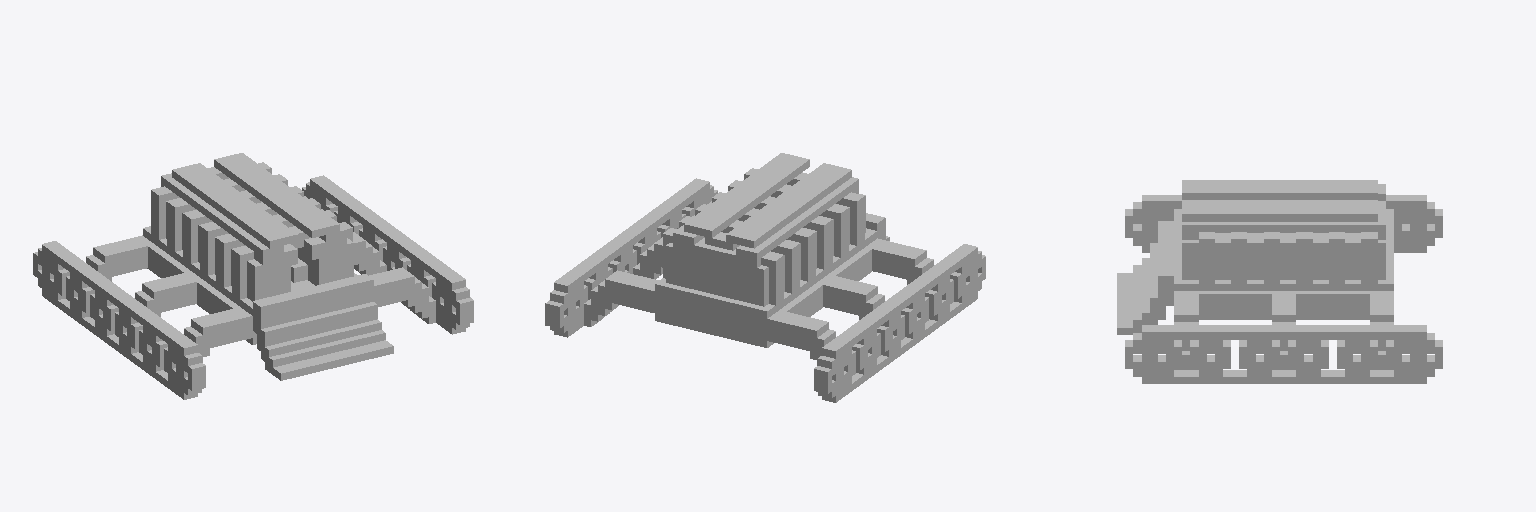
The model's file is player.obj.
The picture shows the model from 3 angles: view 1: azimuth 30°, elevation 25°; view 2: azimuth 150°, elevation 25°; view 3: azimuth 270°, elevation 25°; orthographic projection.
Parts seen in each view (by area): view 1: player; view 2: player; view 3: player.
Boxes of the visible parts, box(x1,y1,x2,y2) form: player: box(33, 153, 473, 399); player: box(545, 153, 985, 402); player: box(1117, 180, 1442, 383).
Size of the model in its own units: 40 by 16 by 40.